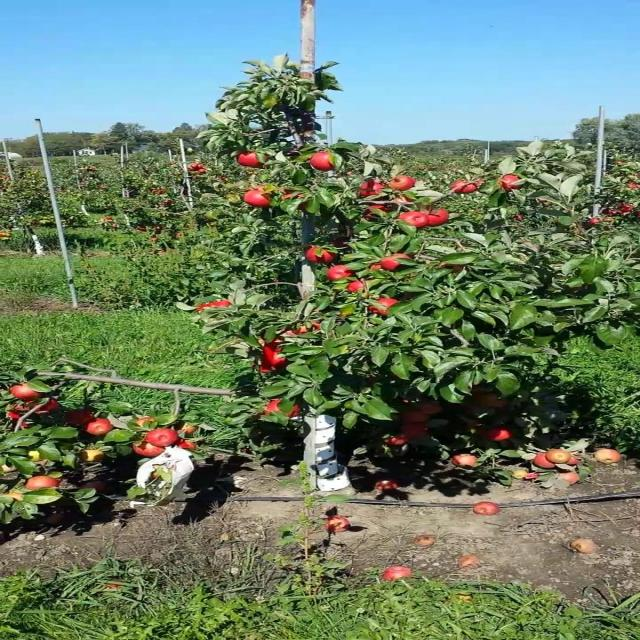apple: (262, 344, 290, 367), (148, 428, 178, 447), (269, 400, 300, 418), (305, 248, 338, 264), (383, 256, 416, 272), (28, 476, 60, 492), (241, 152, 272, 168), (312, 152, 336, 172), (397, 212, 427, 228), (284, 192, 309, 211), (134, 444, 165, 459), (369, 300, 398, 316), (362, 204, 391, 220), (84, 420, 114, 435), (13, 384, 41, 400), (390, 176, 418, 192), (326, 268, 356, 282), (426, 208, 448, 227), (404, 424, 432, 438), (248, 192, 272, 208), (483, 428, 512, 441), (362, 184, 386, 198), (454, 180, 476, 195), (426, 212, 448, 227), (483, 396, 510, 408), (348, 280, 372, 293), (70, 412, 94, 424), (390, 196, 414, 208), (404, 412, 430, 423), (504, 176, 523, 191), (419, 404, 443, 415), (177, 424, 199, 436), (35, 404, 57, 416), (84, 452, 107, 463), (13, 404, 34, 416), (177, 440, 199, 451), (134, 416, 156, 426), (440, 264, 464, 273), (390, 436, 409, 447), (42, 400, 60, 411), (84, 484, 108, 492), (468, 420, 484, 431), (369, 264, 386, 273), (20, 404, 39, 412), (198, 304, 215, 312), (262, 364, 277, 373), (13, 412, 25, 420), (20, 420, 32, 428), (476, 180, 485, 188)
